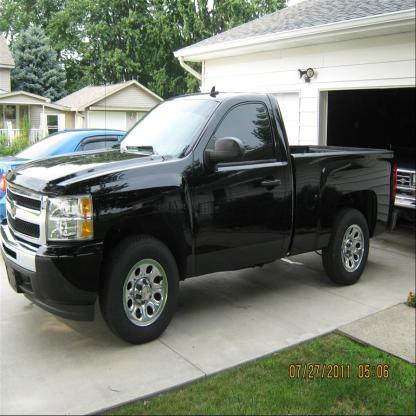car: (1, 78, 416, 390), (2, 129, 129, 219)
